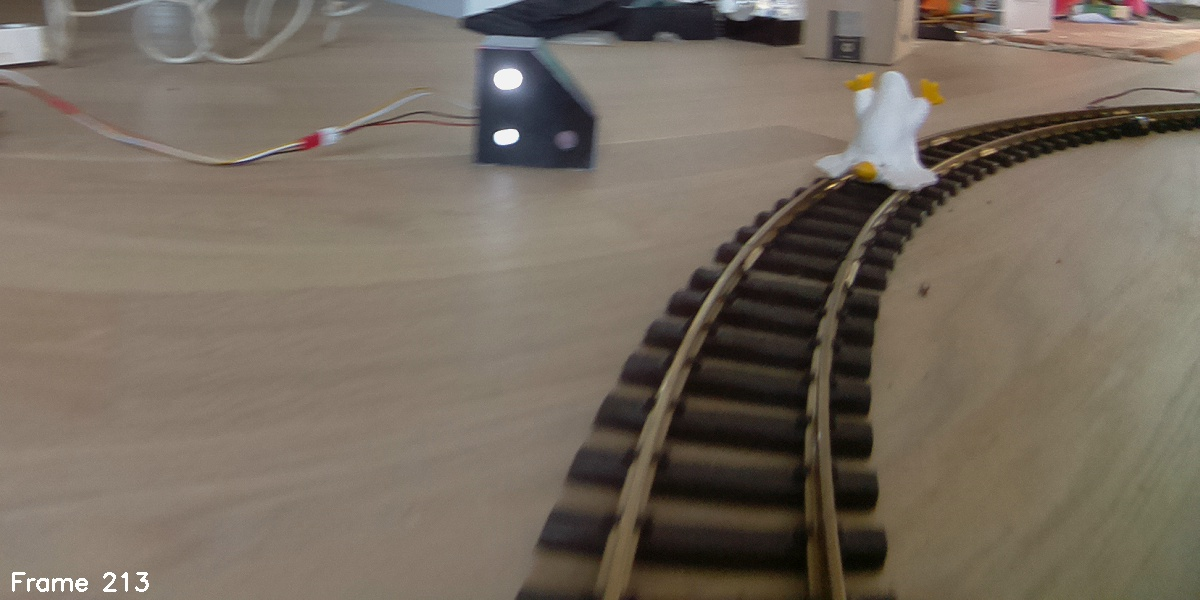Ente: (813, 65, 942, 201)
Fahrt: (472, 34, 600, 175)
